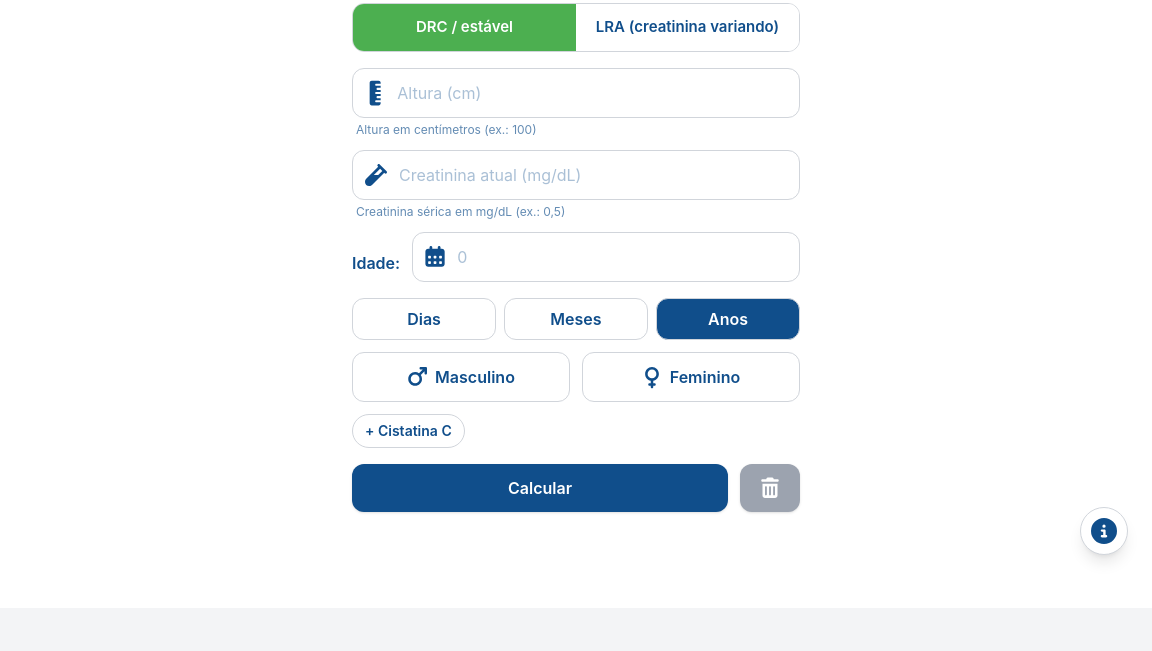
Scenario: TFG Pediátrica (interface) › lactente: pergunta de prematuridade e aviso de baixa confiabilidade
The image size is (1152, 651).
Expected: the field labelled "Prematuro" is not shown
Type "50" into the field with placeholder "Altura (cm)".
click(592, 92); type("50")  # box [397,68,787,116]
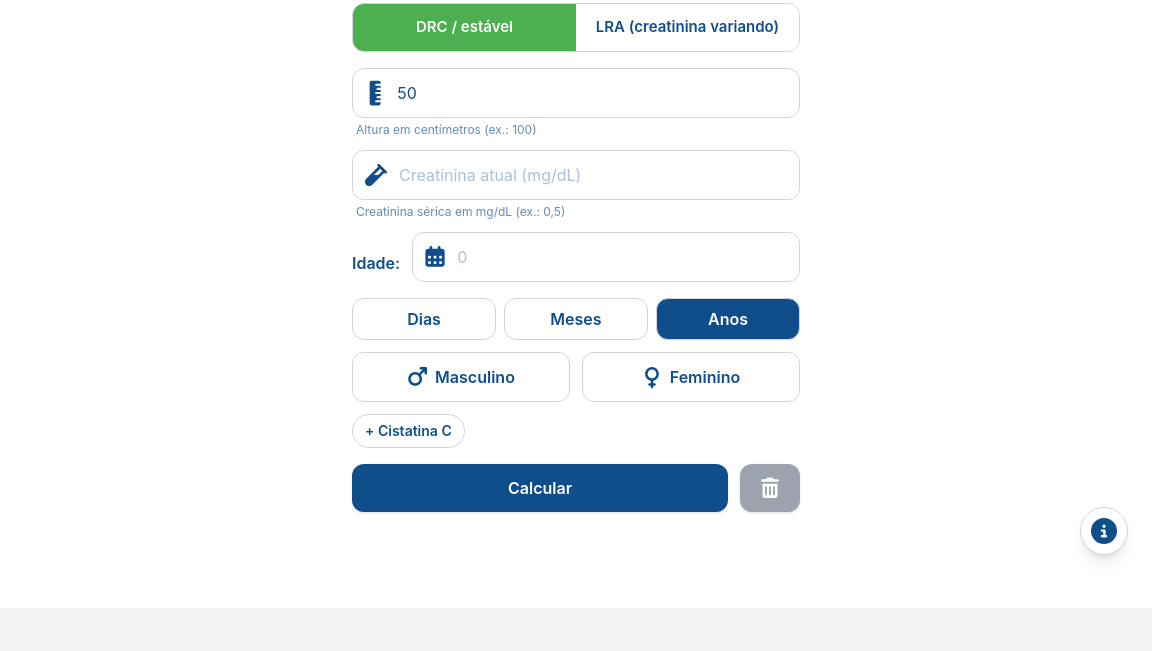
Type "0.4" into the field with placeholder "Creatinina atual (mg/dL)".
click(593, 174); type("0.4")  # box [399,150,787,198]
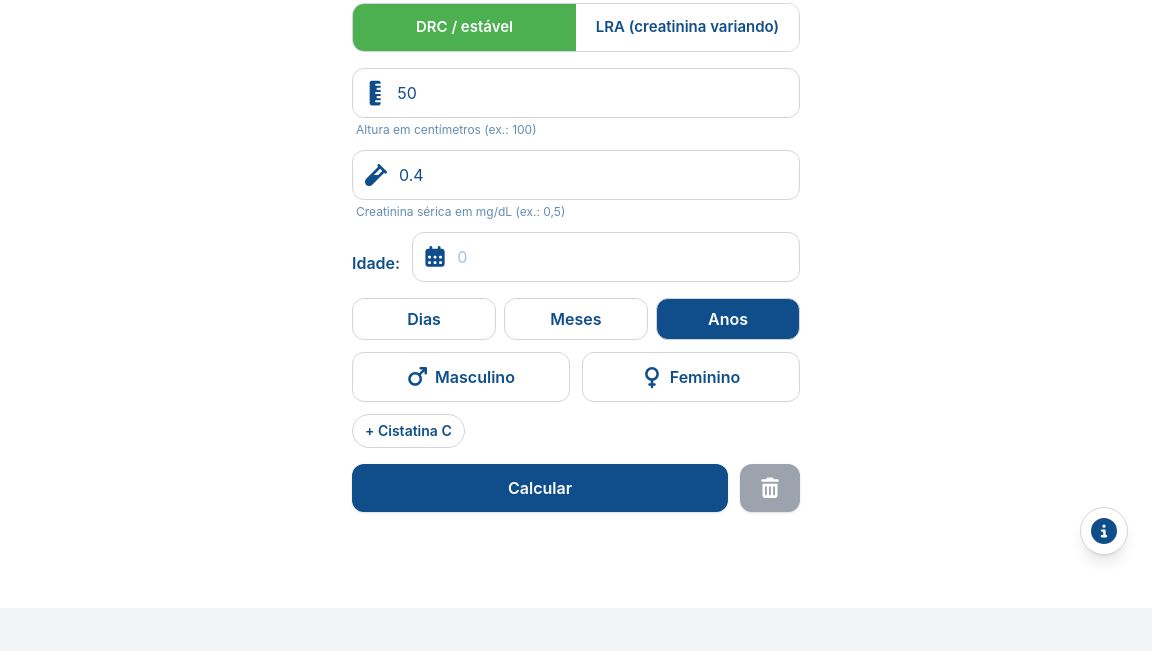
Type "3" into the field named "Idade".
click(622, 256); type("3")  # box [457,232,787,280]
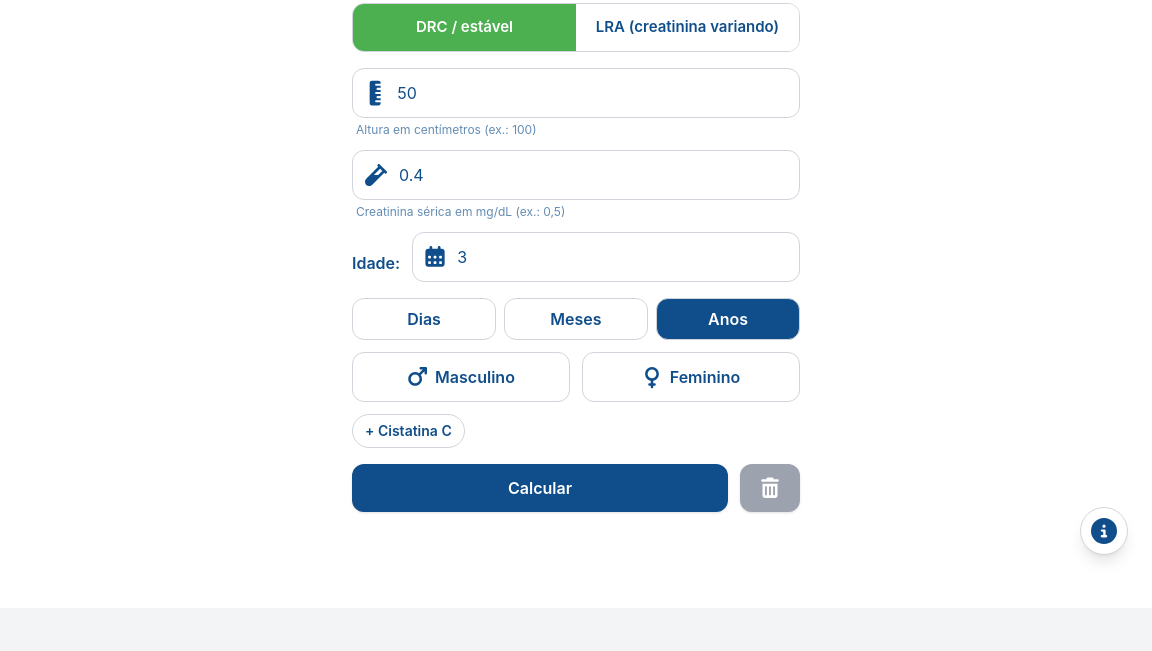
Click the button "meses".
click(576, 318)  # box [504,298,648,340]
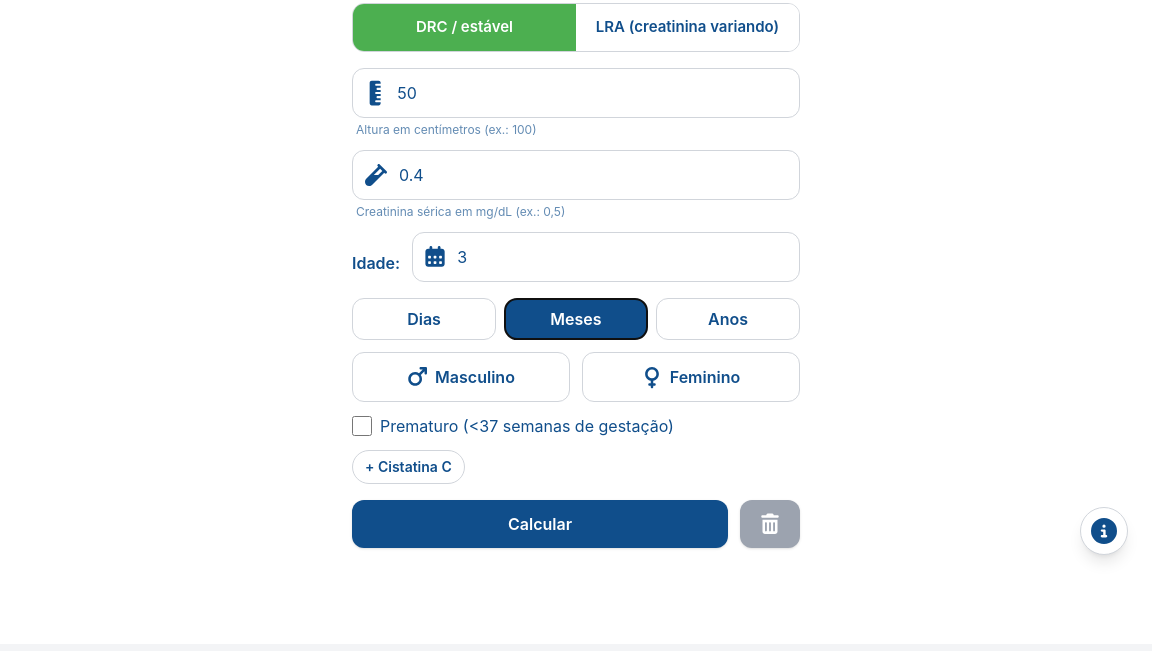
Click the checkbox labelled "Prematuro (<37 semanas de gestação)".
click(362, 426)  # box [352,416,372,436]
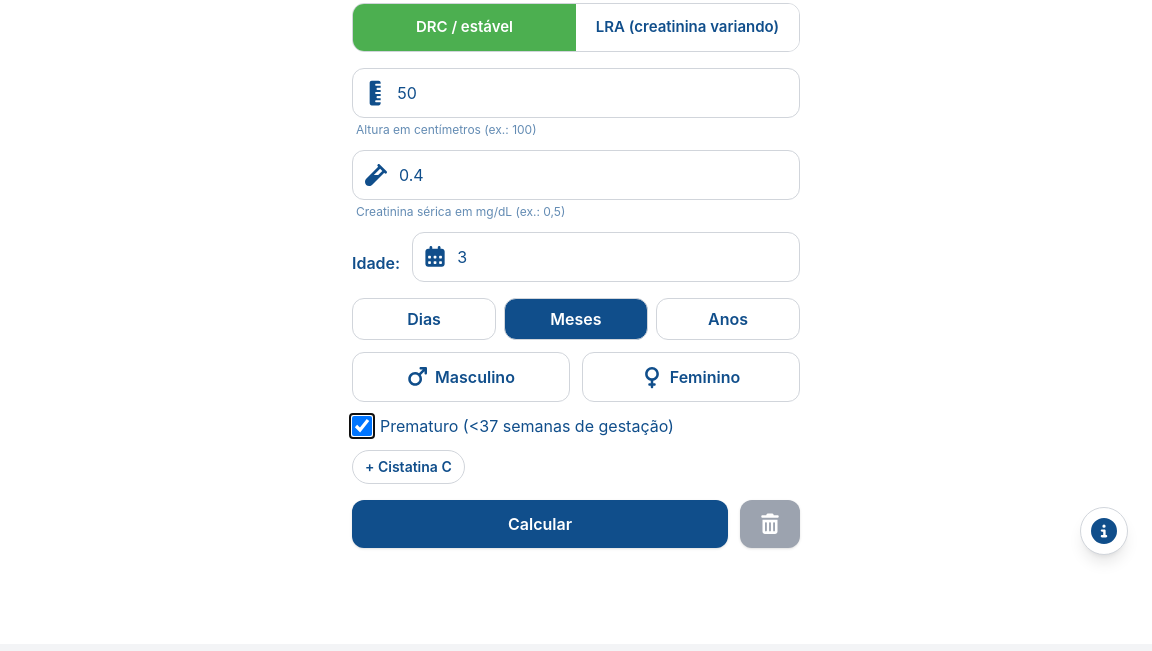
Click the button "Calcular".
click(540, 524)  # box [352,500,728,548]
(page scrolled)
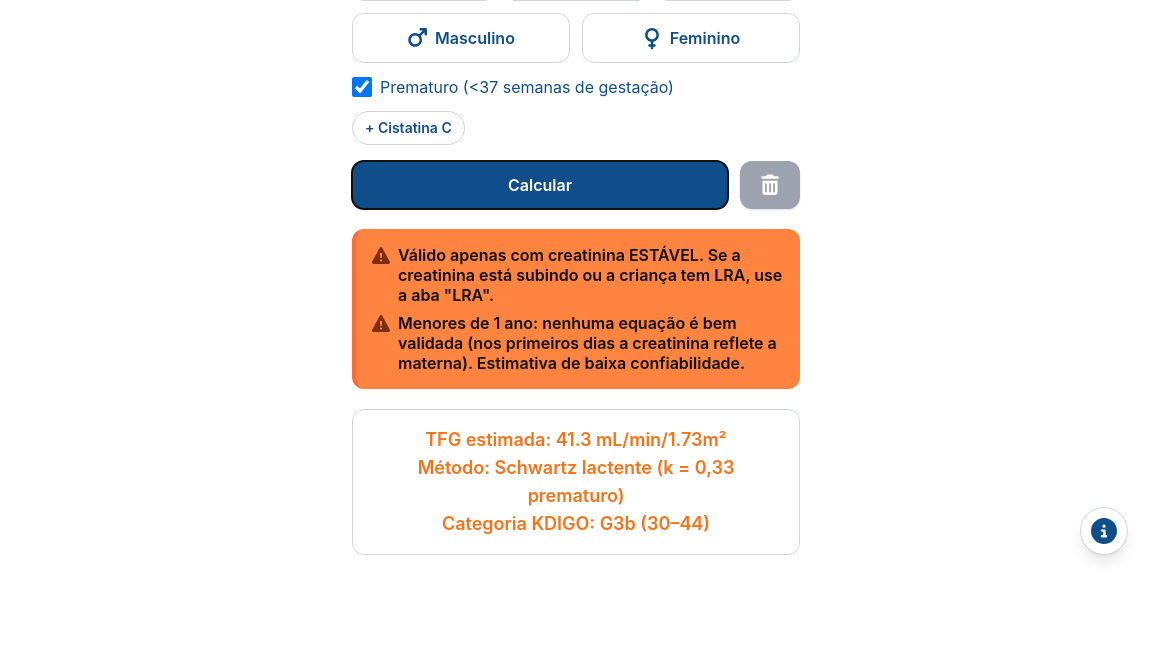
Expected: the 2nd message shows "TFG estimada: 41.3", [418,428,734,534]
Expected: the 1st message shows "baixa confiabilidade", [398,312,777,372]
